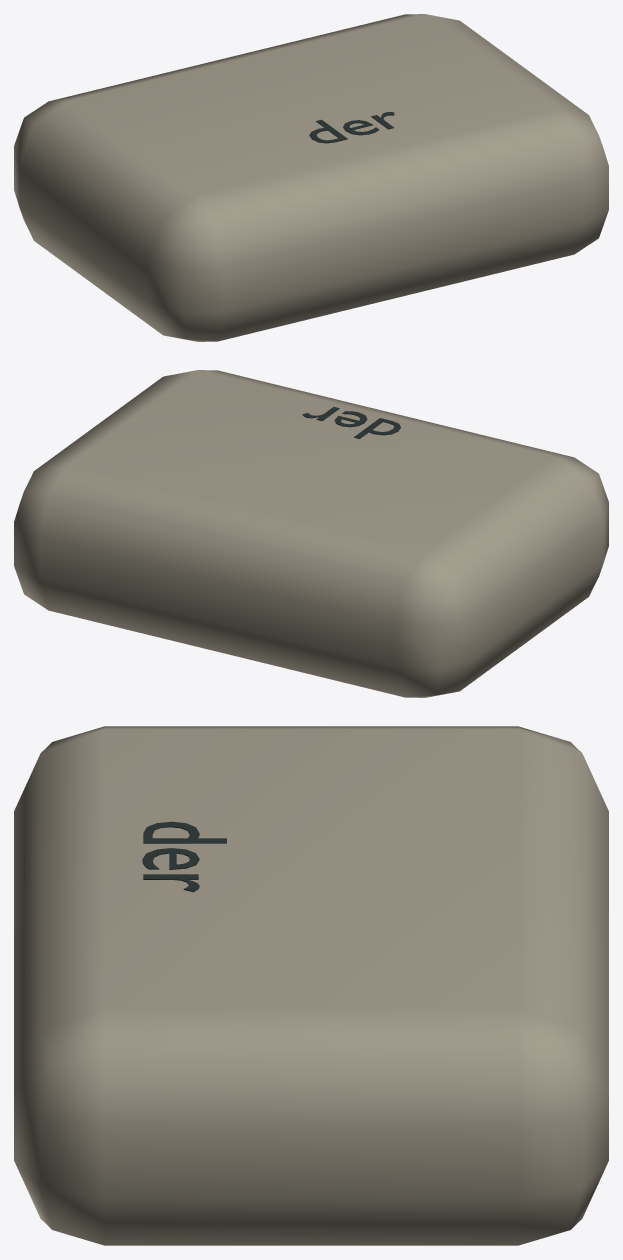
File: SM_Puzzle_WordStone_02.fbx
3 renders of one model, top to bottom at view 1: azimuth 30°, elevation 25°; view 2: azimuth 150°, elevation 25°; view 3: azimuth 270°, elevation 25°, orthographic. The views are drawn at different scales.
Parts seen in each view (by area): view 1: Whole_selectable_stone.001, Word_label.001; view 2: Whole_selectable_stone.001, Word_label.001; view 3: Whole_selectable_stone.001, Word_label.001.
Boxes of the visible parts, x1,y1,x2,y2 form: Whole_selectable_stone.001: [14, 14, 608, 341]; Word_label.001: [309, 112, 394, 143]; Whole_selectable_stone.001: [14, 370, 608, 697]; Word_label.001: [302, 407, 400, 438]; Whole_selectable_stone.001: [14, 726, 608, 1245]; Word_label.001: [142, 821, 226, 892].
Size of what is drawn, in the model's own units: 65 by 46 by 21.14.
